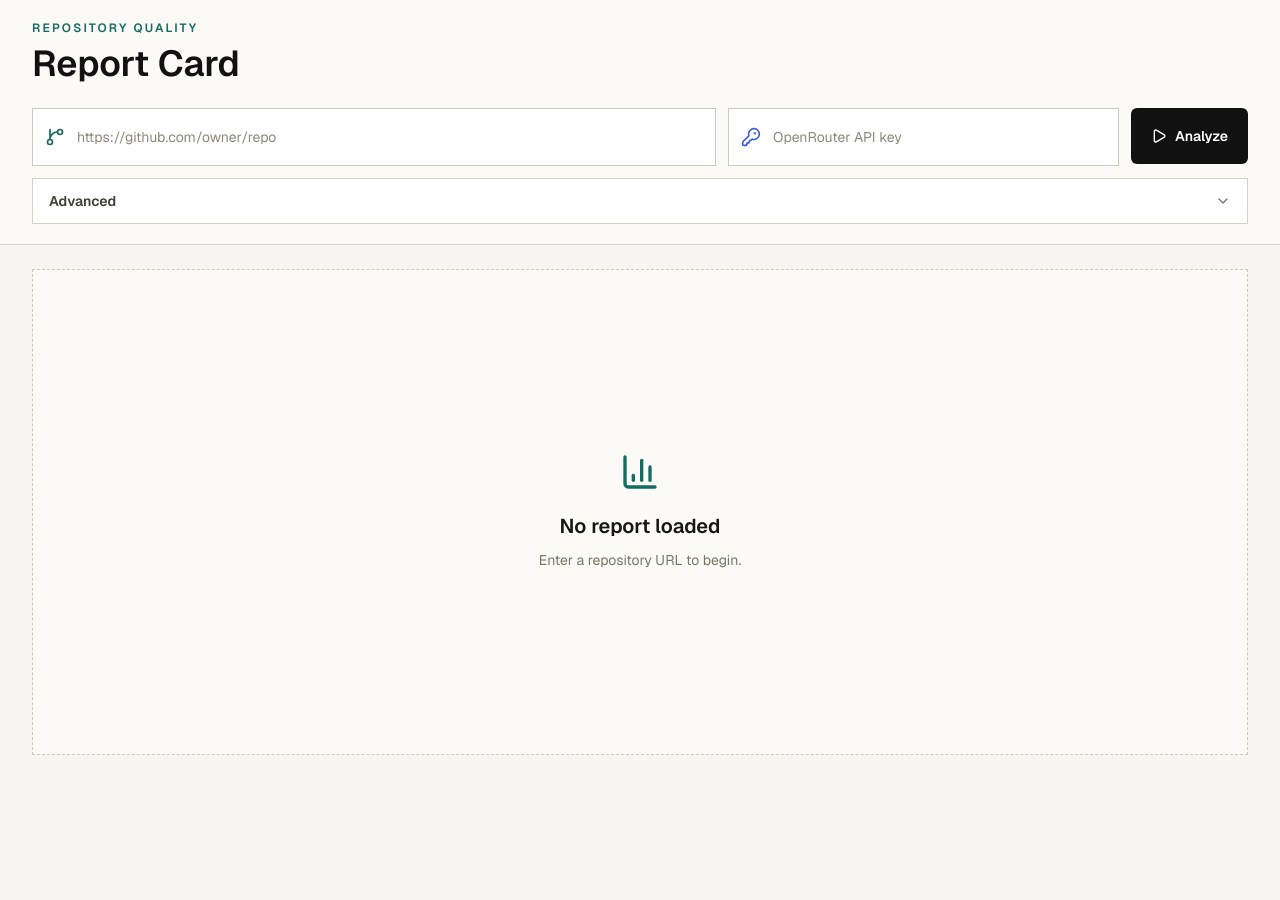
it: AnalyzeRepositoryPanel › shows product-focused validation copy for invalid repository URLs
Type "not-url" into the field named "GitHub repository URL".
click(390, 137); type("not-url")  # box [77,117,703,157]
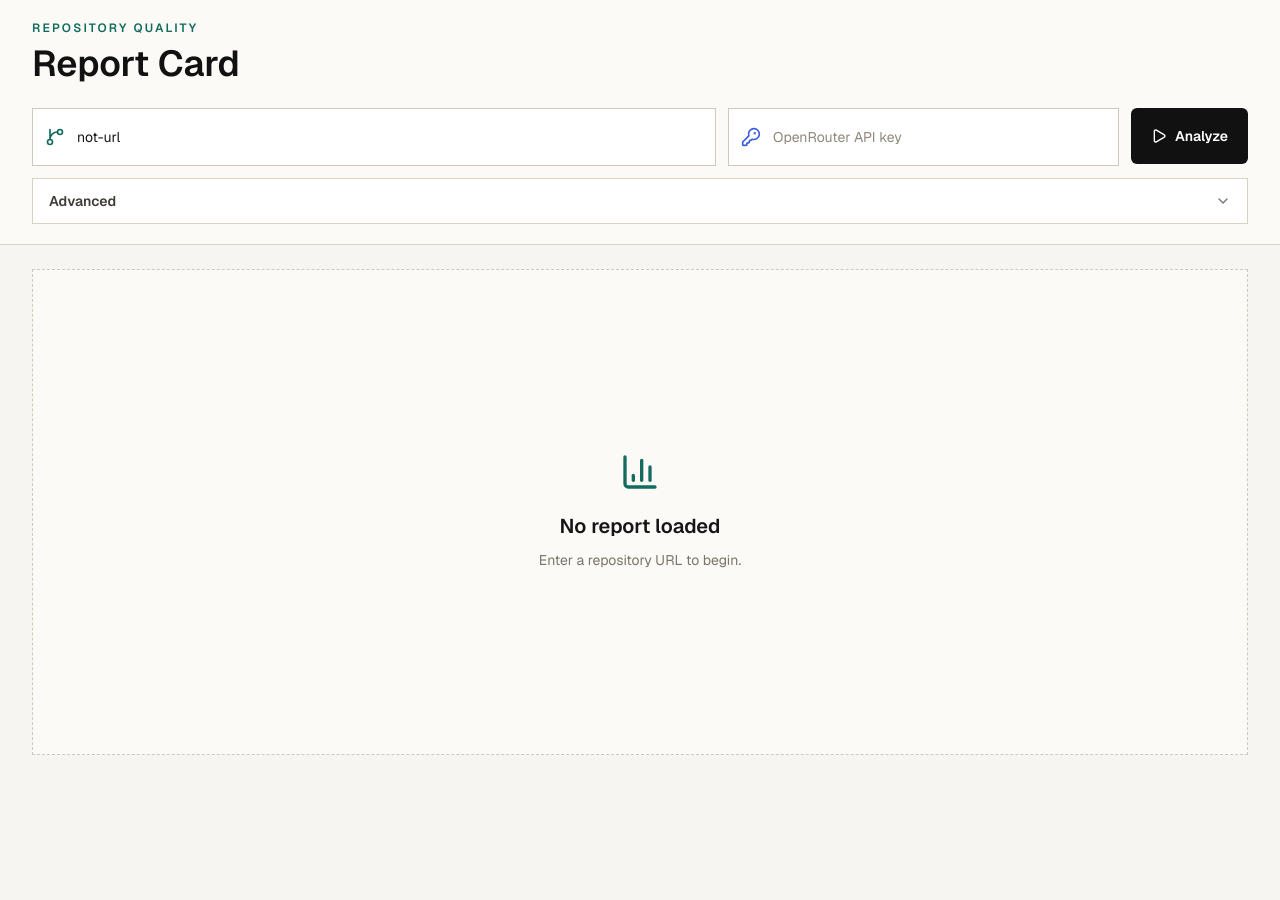
Click the button "Analyze".
click(1190, 136)  # box [1131,108,1248,164]
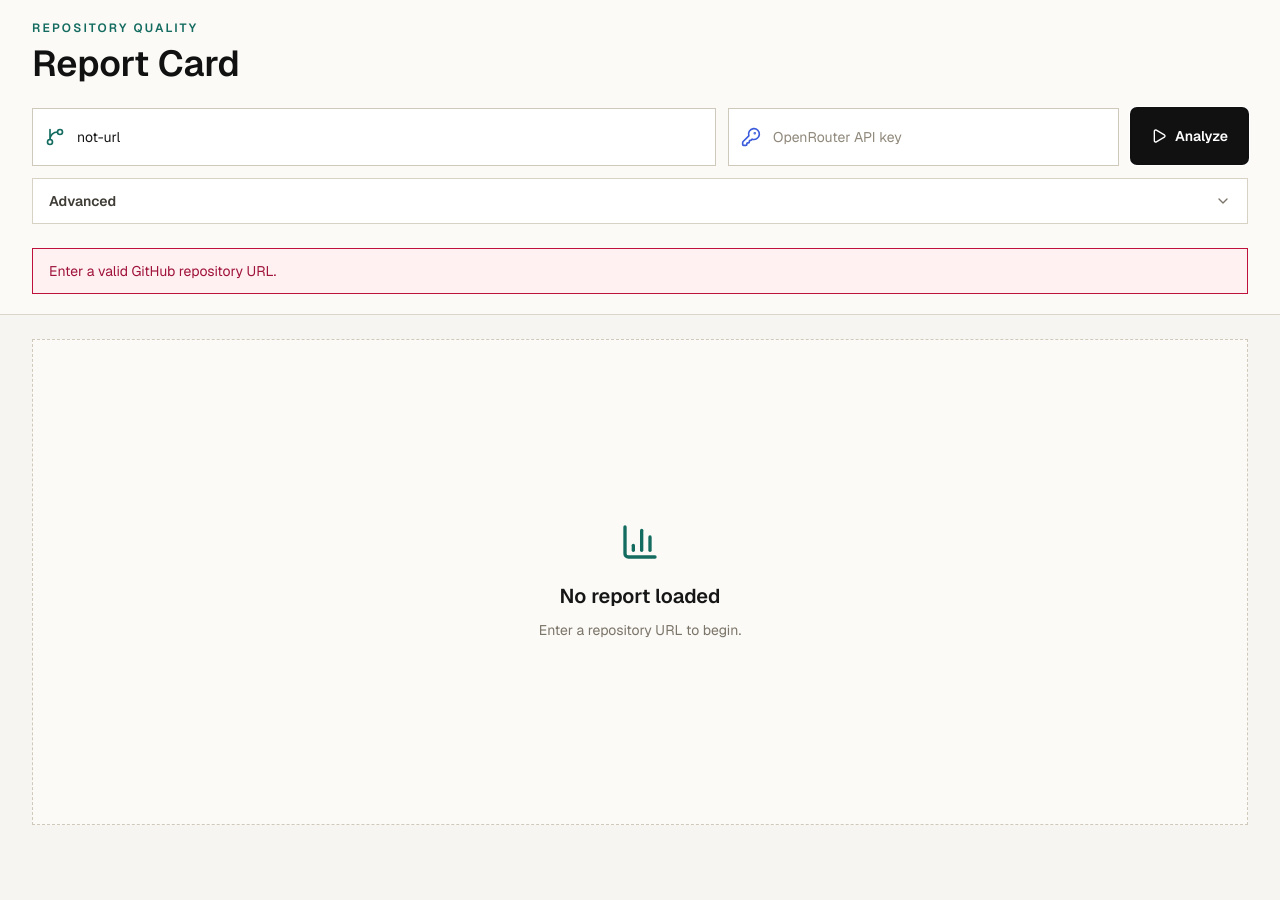
Result: the message reads "Enter a valid GitHub repository URL." at [49,262,276,280]
